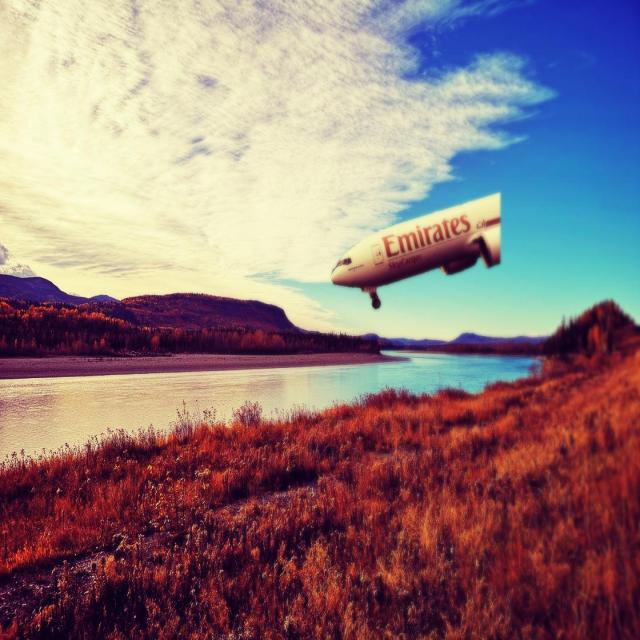airplane: (330, 191, 502, 309)
